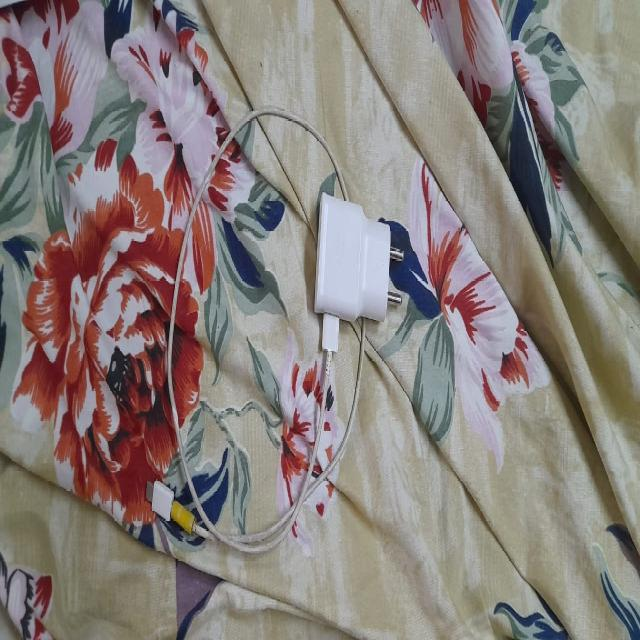Charger - Recyclable: (140, 79, 409, 582)
